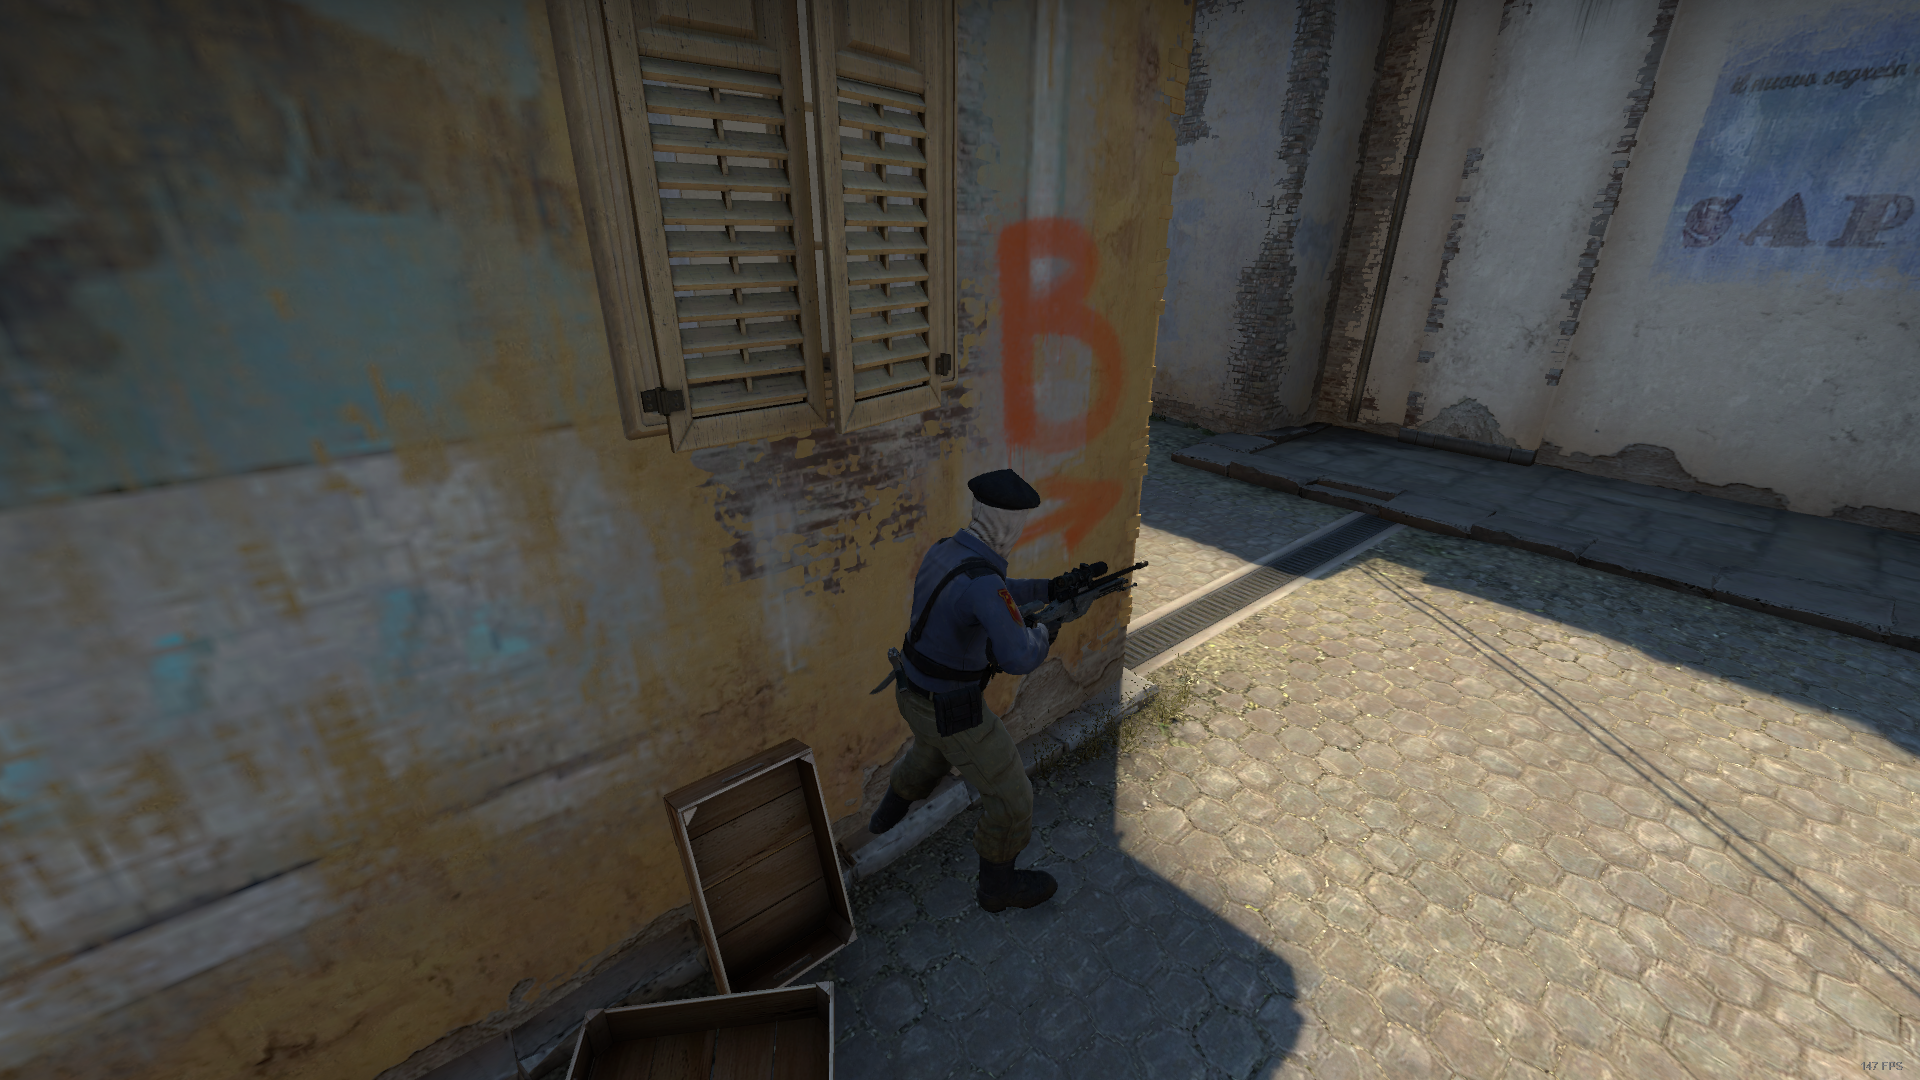t: (861, 462, 1121, 932)
